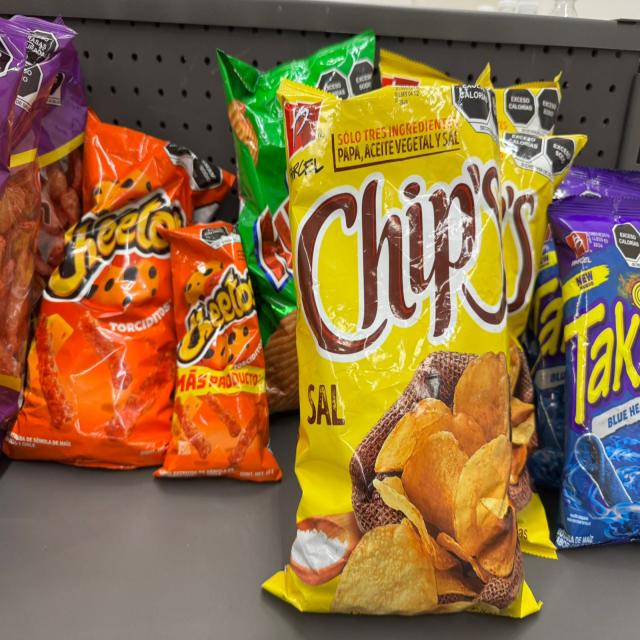CHEETOS TORCIDITOS 240GR: (158, 221, 283, 487)
Cheetos grandes: (6, 109, 235, 476)
Papas Chips Barcel 170 gr bolsa con sal: (262, 67, 541, 617), (503, 127, 590, 560), (497, 76, 559, 129), (381, 52, 463, 86)
RUFFLES QUESO 185GR: (217, 30, 375, 416)
Takis Blue 75g: (547, 196, 640, 548), (525, 227, 567, 486), (553, 169, 640, 199)
chicharrones de cerdo intenso: (2, 15, 76, 430), (30, 14, 85, 336), (0, 19, 29, 200)
